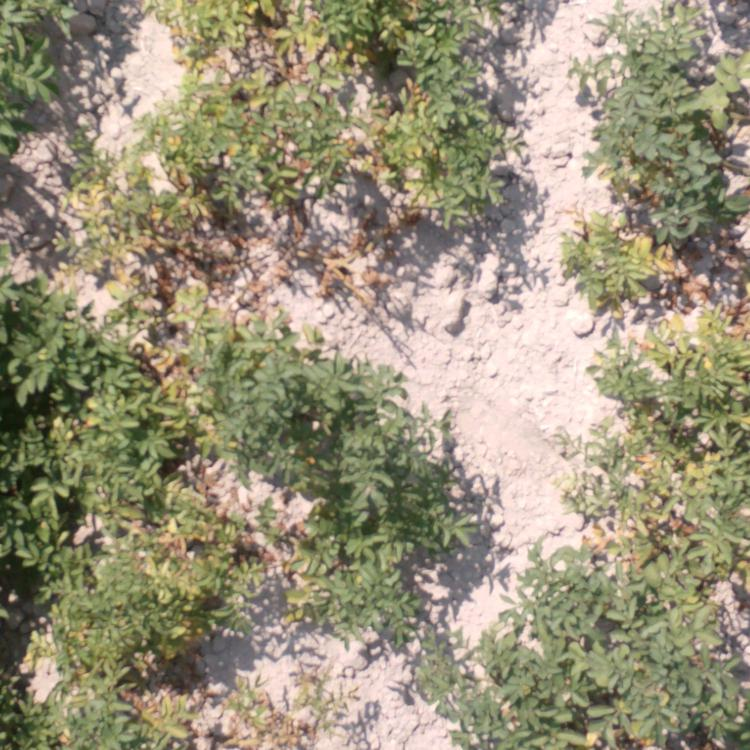healthy: (335, 358, 463, 521), (603, 606, 750, 744), (216, 317, 320, 485), (586, 67, 729, 189), (515, 539, 597, 750), (1, 274, 55, 560), (322, 531, 427, 639), (414, 639, 504, 748), (577, 1, 723, 67), (13, 1, 96, 66), (1, 77, 39, 153)
stressed: (596, 328, 743, 591), (62, 281, 211, 505), (62, 517, 315, 644), (366, 1, 497, 227), (177, 77, 340, 208), (570, 196, 714, 310), (63, 128, 171, 270), (4, 667, 185, 750), (191, 672, 383, 750), (174, 1, 353, 77), (182, 215, 260, 275), (261, 223, 333, 279)
